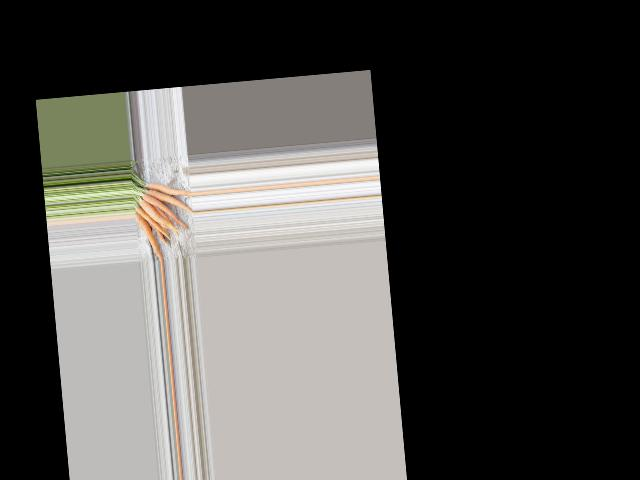carrot: (134, 207, 164, 261)
